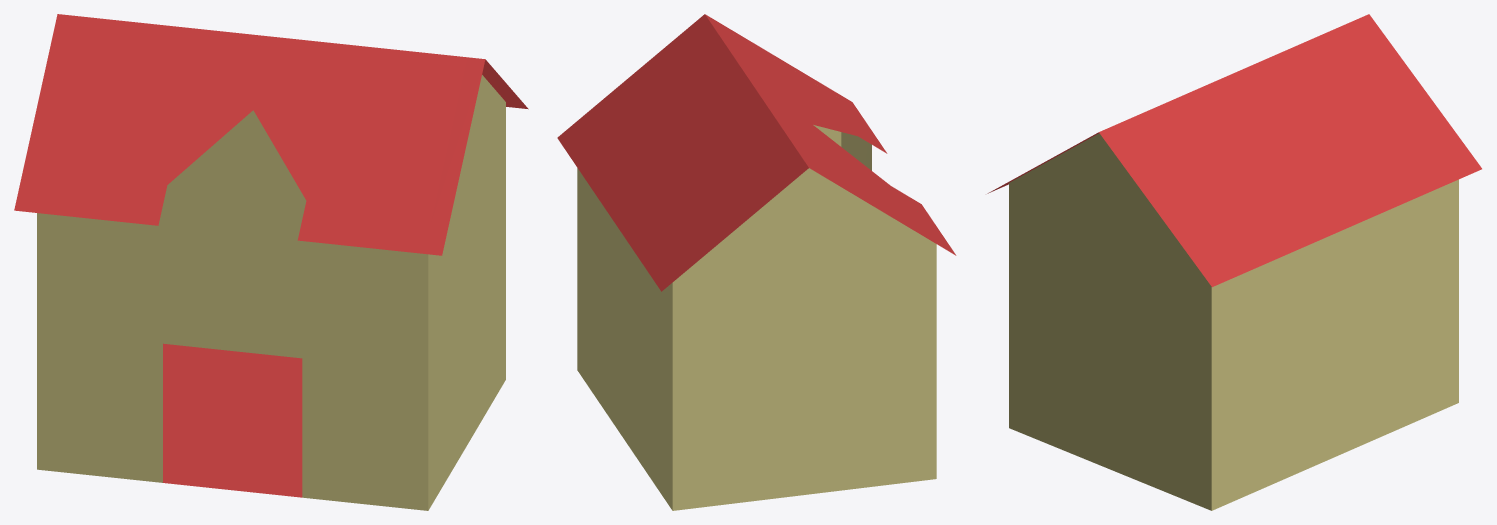
3 views of the same model, side by side, from view 1: azimuth 30°, elevation 25°; view 2: azimuth 150°, elevation 25°; view 3: azimuth 270°, elevation 25° (orthographic). The views are drawn at different scales.
Bounding box in the file's own units: 14.95 × 14.9 × 11.32.
